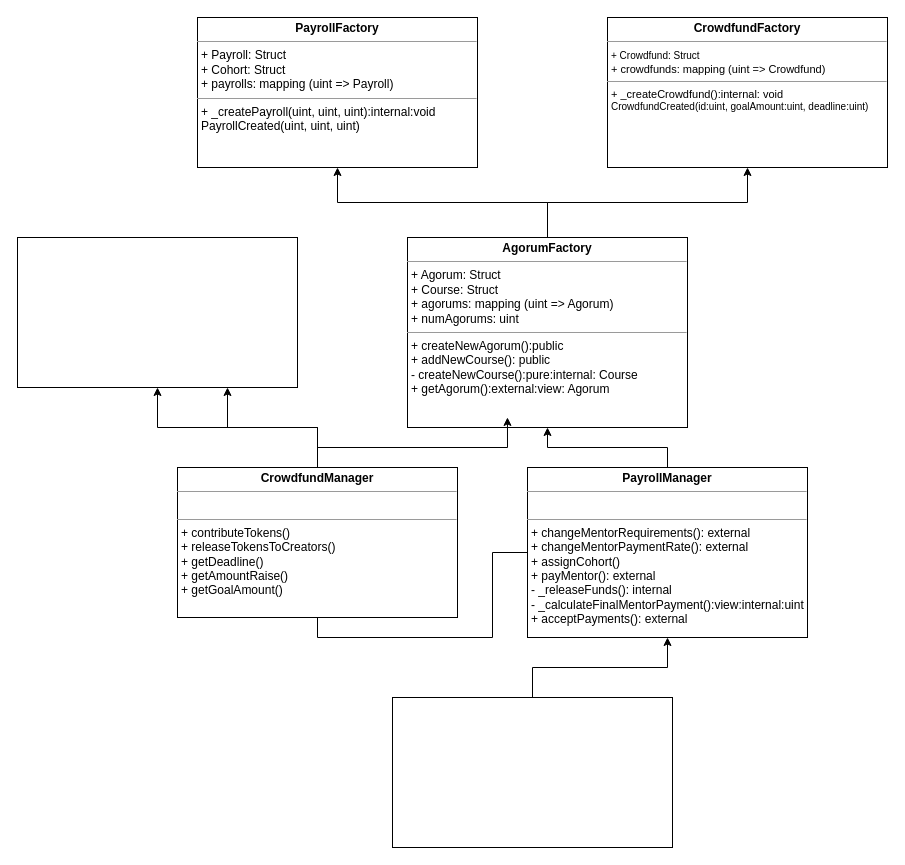
Some shapes in this 905 by 865 pixel diagram are drawn without their labels. Each missing label, with the centre of its shape:
AGOToken + mintTokensOnIntroCourseCompletion() + mintTokensOnNewLevel(): the point at 157,312
PayrollContributor + addNewCourse() + payContributor(): the point at 532,772
